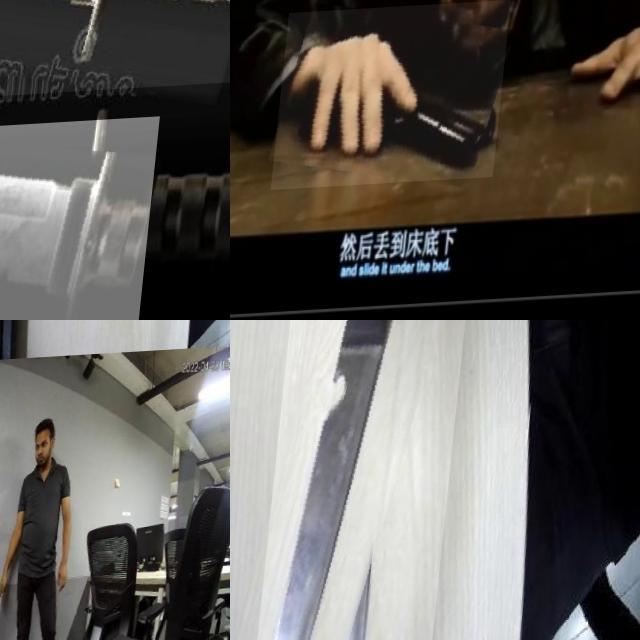-: (267, 320, 496, 640), (0, 121, 201, 320), (0, 0, 230, 171), (45, 320, 202, 418), (0, 438, 66, 549), (0, 320, 69, 375), (2, 593, 18, 632)
gun-knife-thesis - v11 Yolov5 augmented: (282, 5, 518, 192)
